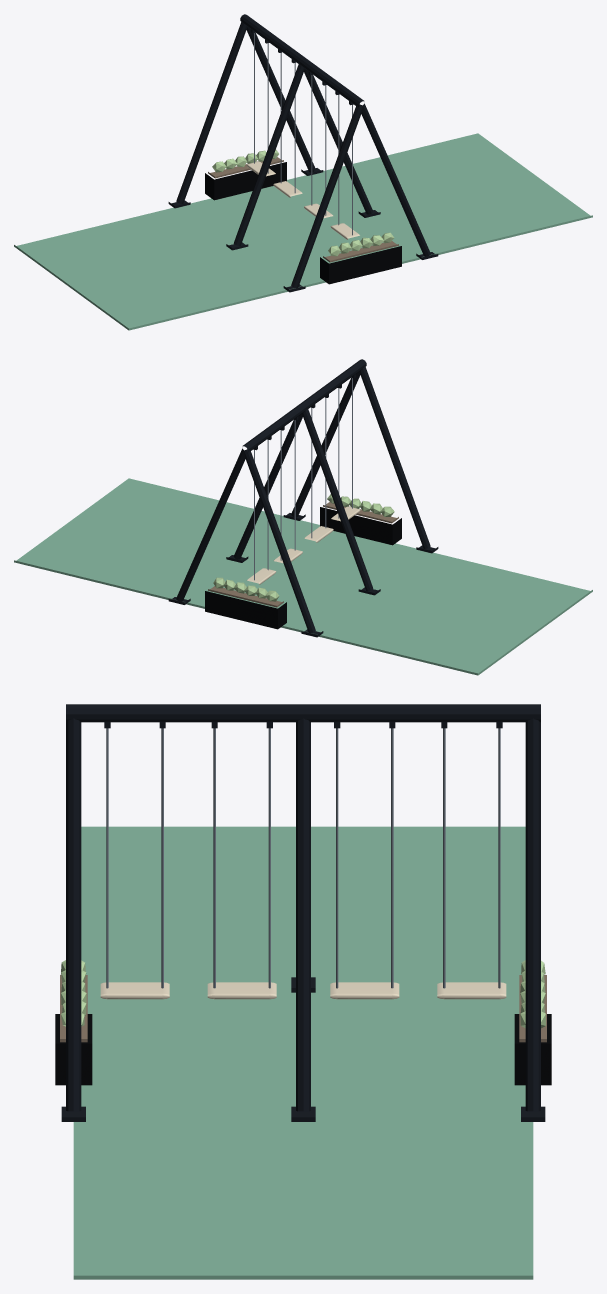
3 renders of one model, top to bottom at view 1: azimuth 30°, elevation 25°; view 2: azimuth 150°, elevation 25°; view 3: azimuth 270°, elevation 25°, orthographic. The views are drawn at different scales.
Parts seen in each view (by area): view 1: Safety_Pad, Swing_Frame, Planters, Foliage, Planter_Soil, Swing3_Chains, Swing2_Chains; view 2: Safety_Pad, Swing_Frame, Planters, Foliage, Planter_Soil, Swing2_Chains, Swing3_Chains; view 3: Safety_Pad, Swing_Frame, Planters, Swing1_Chains, Swing2_Chains, Swing3_Chains, Swing4_Chains, Foliage, Swing1_Seat, Swing4_Seat, Swing2_Seat, Swing3_Seat (+1 smaller).
Boxes of the visible parts, box(x1,y1,x2,y2) form: Safety_Pad: box(14, 133, 592, 330); Swing_Frame: box(168, 14, 438, 292); Planters: box(205, 162, 401, 284); Foliage: box(212, 149, 394, 256); Planter_Soil: box(208, 157, 398, 262); Swing3_Chains: box(311, 75, 326, 215); Swing2_Chains: box(280, 52, 295, 193); Safety_Pad: box(14, 478, 592, 675); Swing_Frame: box(168, 359, 438, 637); Planters: box(205, 507, 401, 629); Foliage: box(213, 494, 394, 601); Planter_Soil: box(208, 502, 398, 607); Swing2_Chains: box(280, 420, 295, 560); Swing3_Chains: box(311, 397, 326, 538); Safety_Pad: box(73, 826, 533, 1279); Swing_Frame: box(61, 704, 545, 1121); Planters: box(55, 1014, 551, 1085); Swing1_Chains: box(443, 728, 500, 988); Swing2_Chains: box(336, 728, 393, 988); Swing3_Chains: box(213, 728, 270, 988); Swing4_Chains: box(106, 728, 163, 988); Foliage: box(61, 960, 545, 1028); Swing1_Seat: box(437, 982, 506, 999); Swing4_Seat: box(100, 982, 169, 999); Swing2_Seat: box(330, 982, 399, 999); Swing3_Seat: box(207, 982, 276, 999).
Size of what is drawn, in the model's own units: 7 by 2.51 by 3.24.
Materials: 7 (3 with a texture image).
